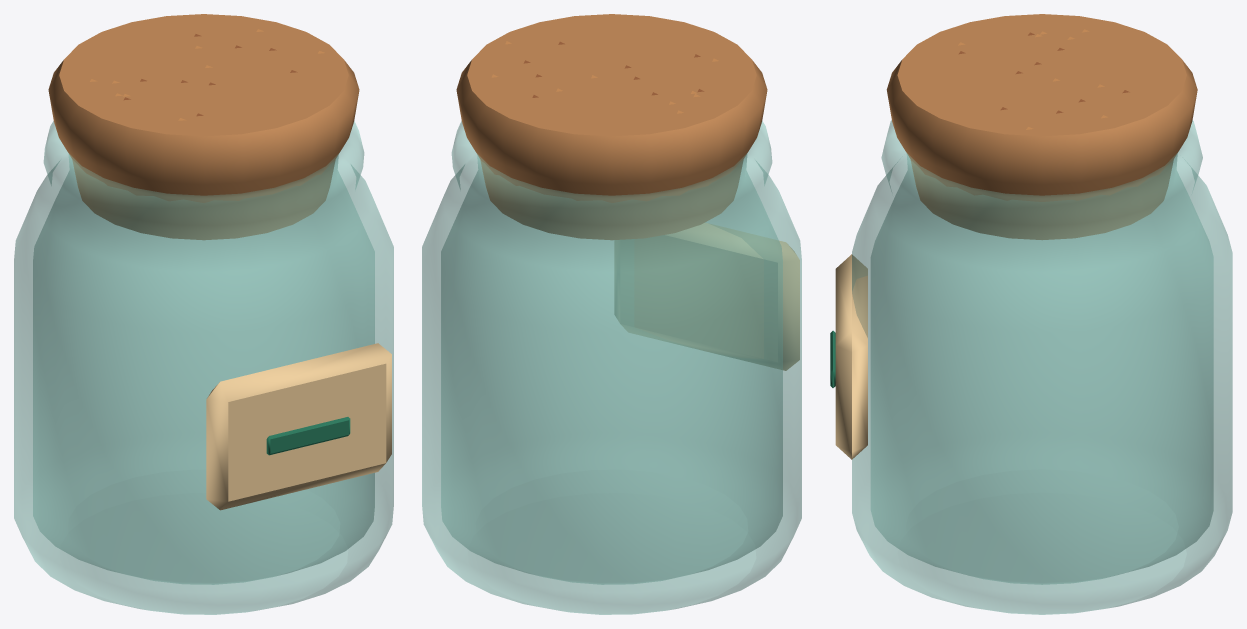
File: jar.glb
The picture shows the model from 3 angles, left to right: view 1: azimuth 30°, elevation 25°; view 2: azimuth 150°, elevation 25°; view 3: azimuth 270°, elevation 25°; orthographic projection.
Parts seen in each view (by area): view 1: Glass, Lid, Label; view 2: Glass, Lid, Label; view 3: Glass, Lid, Label.
Part boxes in pixels (x1=…): Glass: x1=14, y1=121, x2=393, y2=614; Lid: x1=48, y1=14, x2=359, y2=240; Label: x1=206, y1=343, x2=391, y2=510; Glass: x1=422, y1=121, x2=801, y2=614; Lid: x1=456, y1=14, x2=767, y2=240; Label: x1=615, y1=223, x2=799, y2=370; Glass: x1=852, y1=120, x2=1232, y2=614; Lid: x1=886, y1=14, x2=1197, y2=239; Label: x1=830, y1=254, x2=867, y2=459.
Bounding box in the file's own units: 0.142 × 0.1972 × 0.15.
